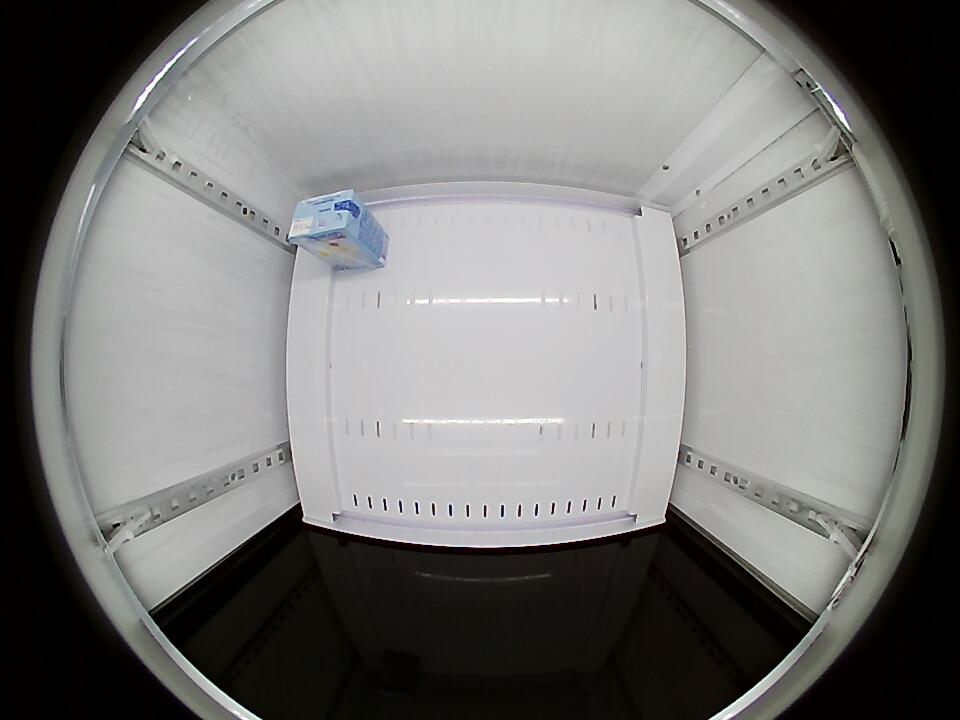weitanaiditang: (287, 189, 367, 250)
